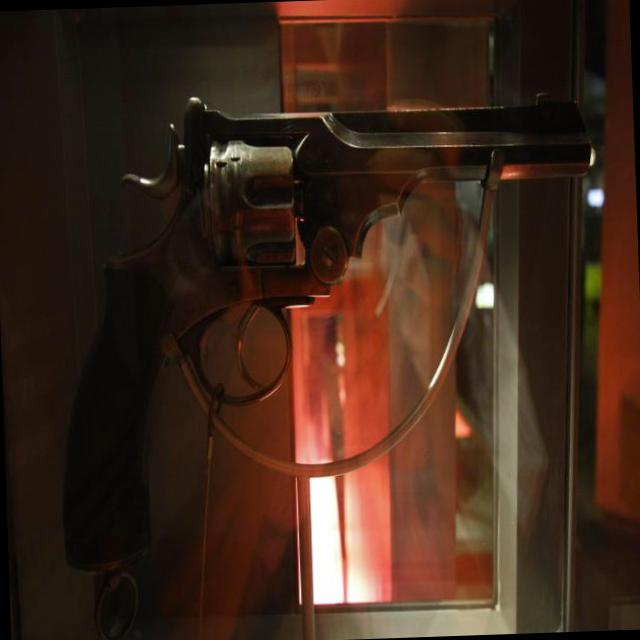Gun: (63, 98, 590, 568)
